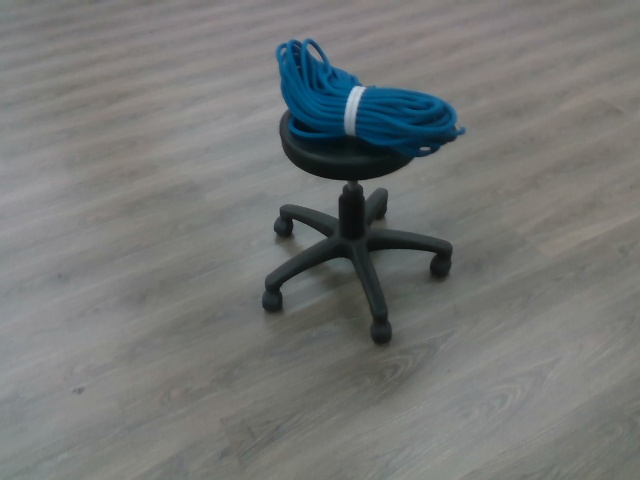rope: (273, 36, 470, 159)
